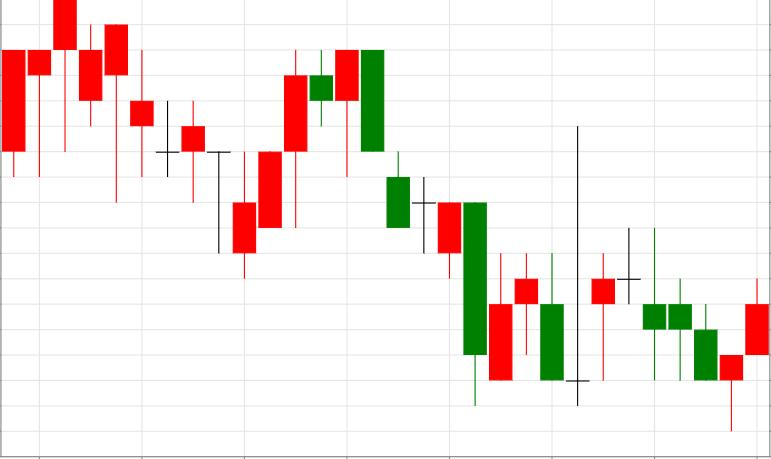hanging_man_fall: (232, 50, 358, 278)
